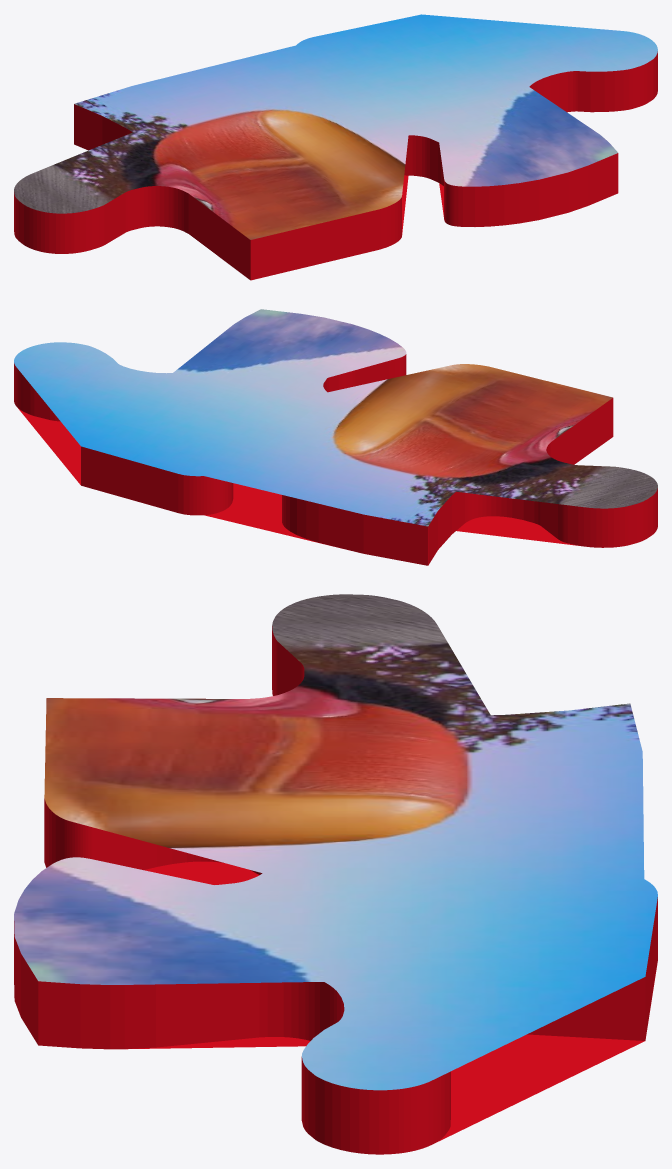
File: PUZZLE2_1.fbx
The picture shows the model from 3 angles, top to bottom: view 1: azimuth 30°, elevation 25°; view 2: azimuth 150°, elevation 25°; view 3: azimuth 270°, elevation 25°; orthographic projection. The views are drawn at different scales.
Parts seen in each view (by area): view 1: Puzzle 2 Bagian 1; view 2: Puzzle 2 Bagian 1; view 3: Puzzle 2 Bagian 1.
Part boxes in pixels (bbox=[...]): Puzzle 2 Bagian 1: bbox=[14, 14, 657, 280]; Puzzle 2 Bagian 1: bbox=[14, 309, 657, 565]; Puzzle 2 Bagian 1: bbox=[14, 594, 657, 1154].
Size of the model in its own units: 301 by 18.2 by 165.
